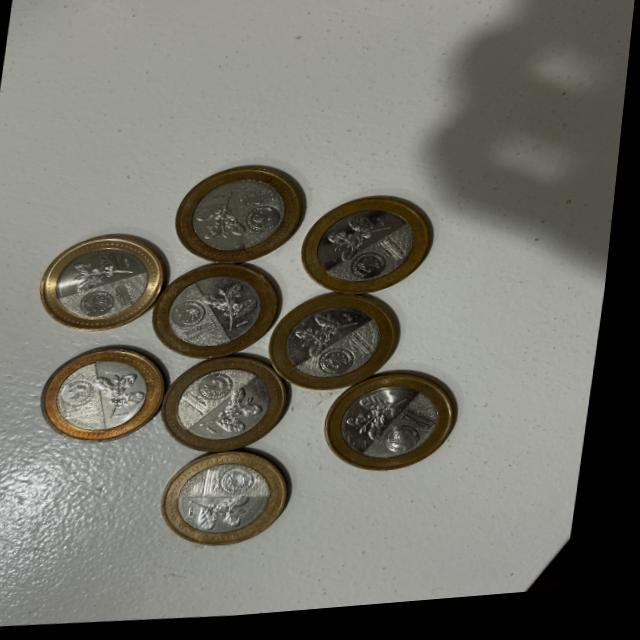20_New_Back: (204, 272, 289, 347), (96, 361, 161, 426)
